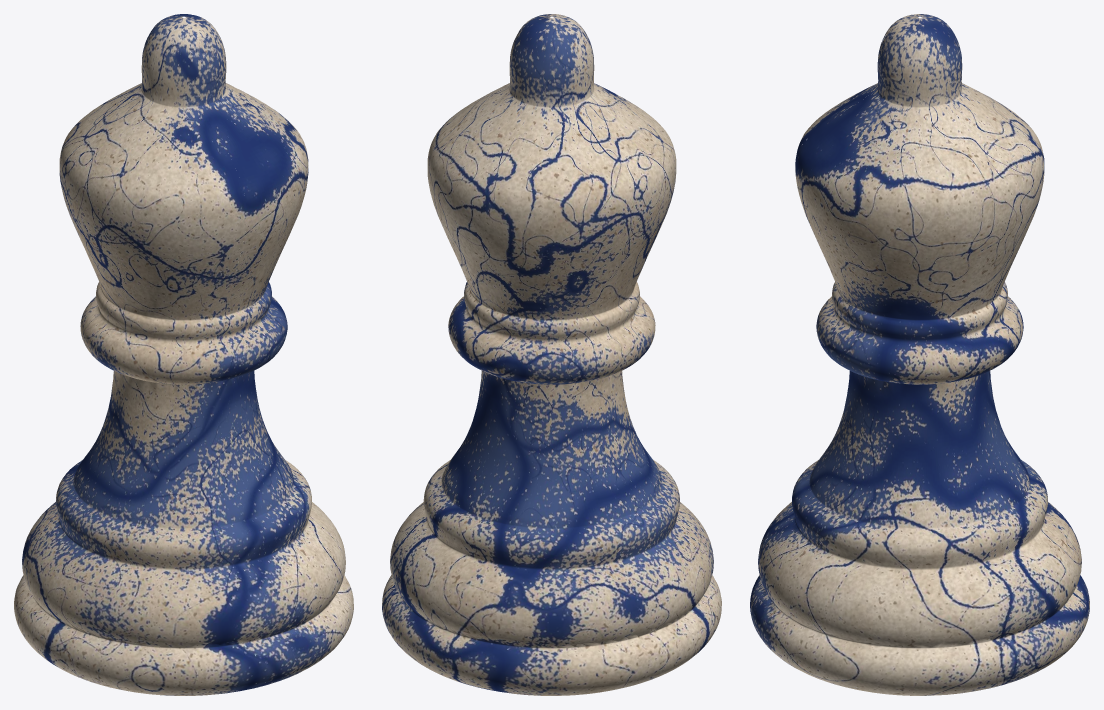
Rendered from bishop-white-hd.glb.
3 renders of one model, left to right at view 1: azimuth 30°, elevation 25°; view 2: azimuth 150°, elevation 25°; view 3: azimuth 270°, elevation 25°, orthographic.
Visible parts, largest first — view 1: Cobalt Vein white bishop; view 2: Cobalt Vein white bishop; view 3: Cobalt Vein white bishop.
Boxes of the visible parts, <box> form: Cobalt Vein white bishop: <box>14,14,353,695</box>; Cobalt Vein white bishop: <box>382,14,721,695</box>; Cobalt Vein white bishop: <box>750,14,1089,695</box>.
Bounding box in the file's own units: 0.5719 × 1.15 × 0.5719.
Materials: 1 (1 with a texture image).
